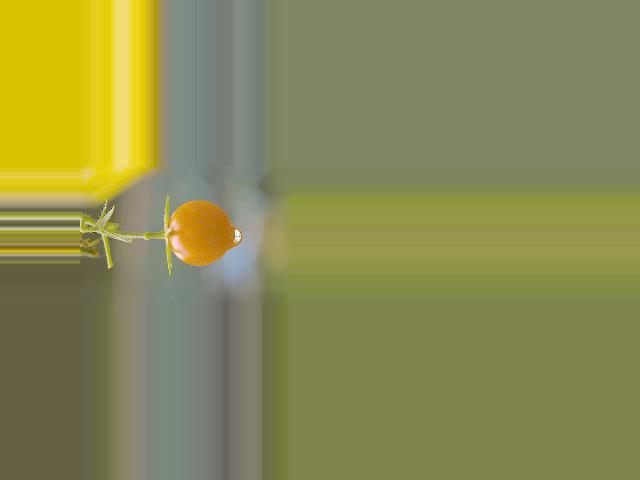tomato: (167, 201, 232, 266)
